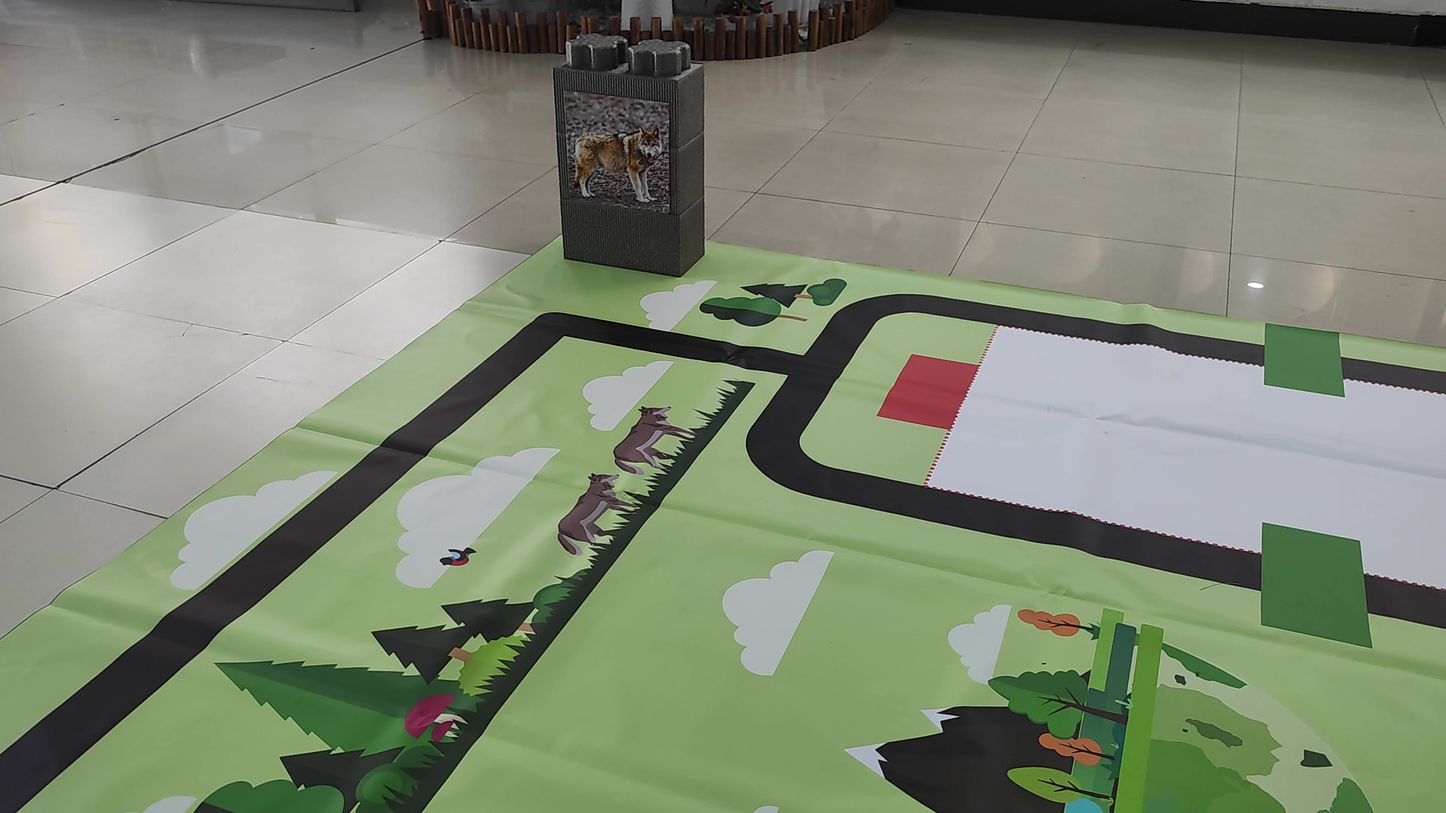wolf: (569, 114, 674, 213)
